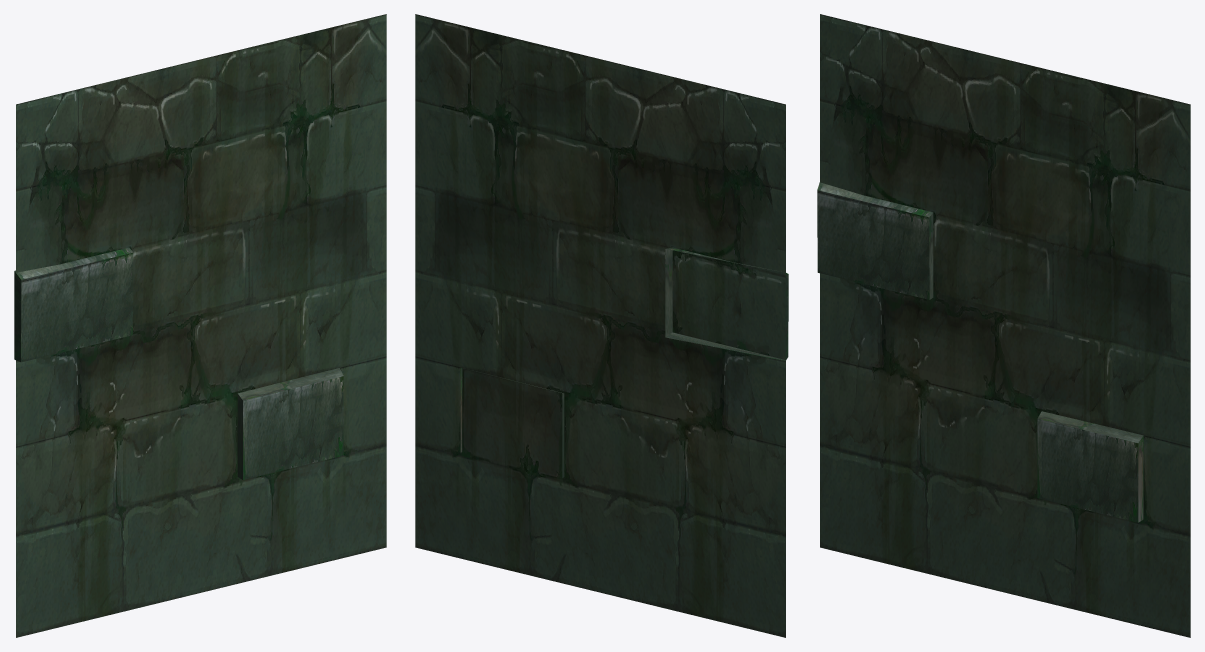
The model's file is stemple_wall_straight_05.fbx.
3 renders of one model, left to right at view 1: azimuth 30°, elevation 25°; view 2: azimuth 150°, elevation 25°; view 3: azimuth 330°, elevation 25°, orthographic.
Parts seen in each view (by area): view 1: obj1.070; view 2: obj1.070; view 3: obj1.070.
Boxes of the visible parts, x1,y1,x2,y2 form: obj1.070: (14, 14, 386, 637); obj1.070: (415, 14, 788, 637); obj1.070: (817, 14, 1190, 637).
Size of the model in its own units: 4.01 by 5.5 by 0.219.
